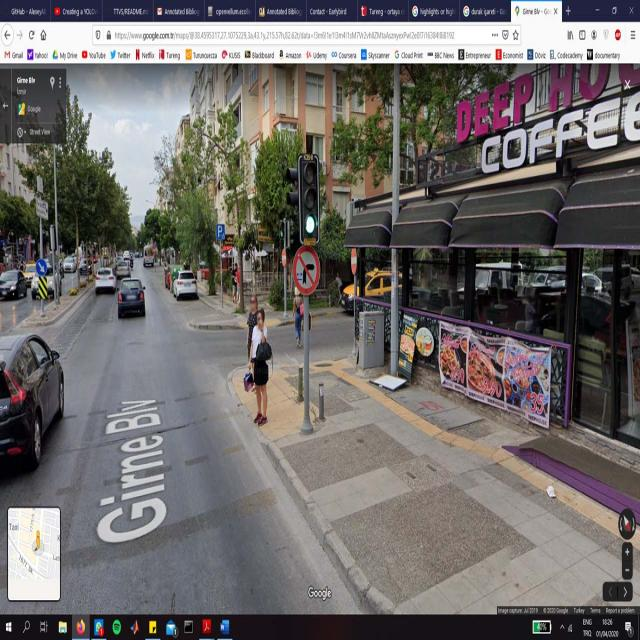park: (217, 223, 225, 240)
sagadonulmez: (294, 246, 320, 294)
yesil: (299, 155, 321, 241)
